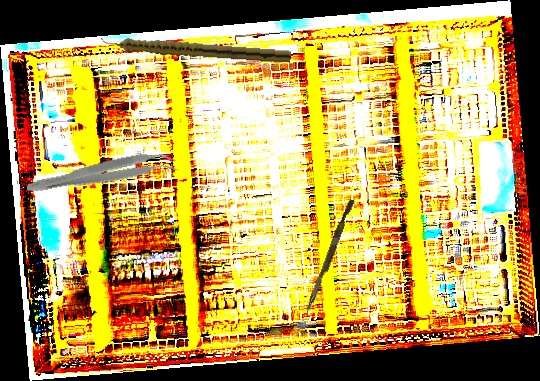Handpiece: (100, 33, 292, 64)
Pusher: (303, 197, 355, 320)
Tissue Forceps: (24, 146, 179, 204)
